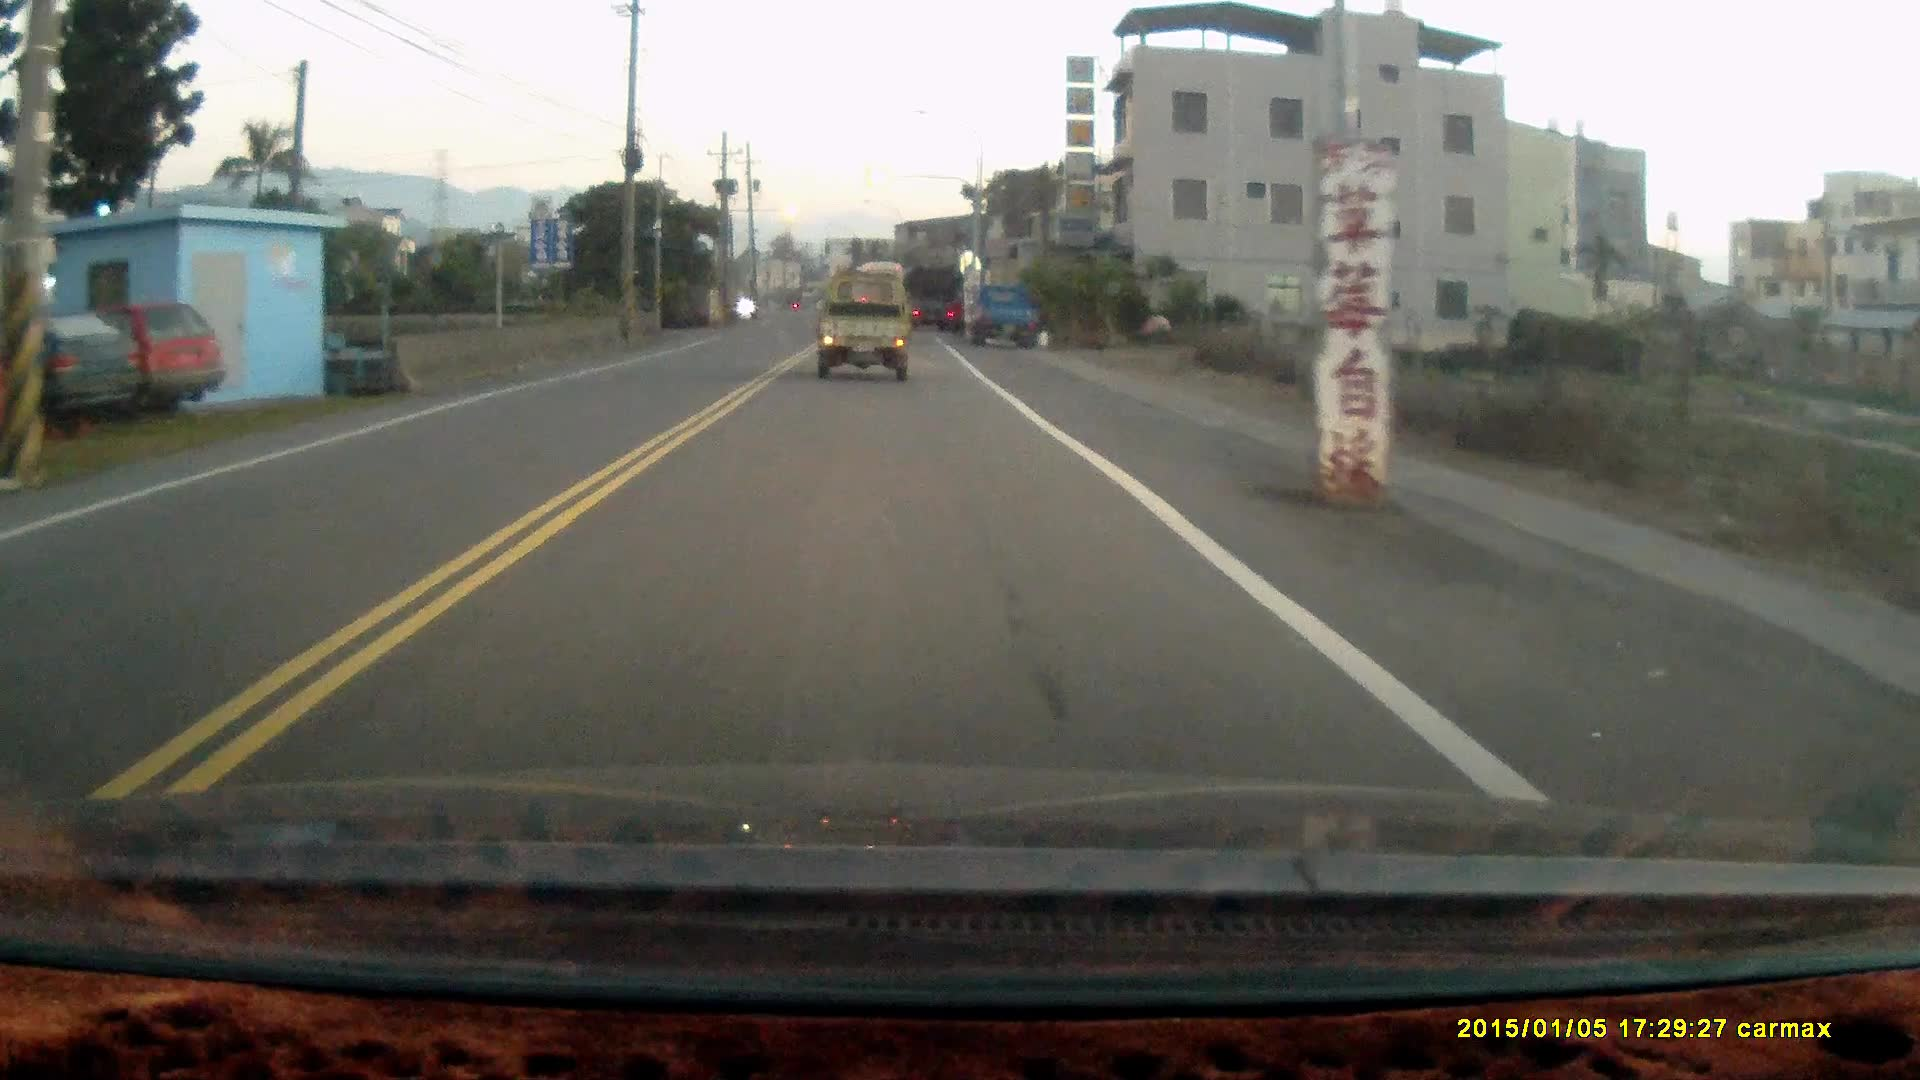vehicle: (18, 301, 224, 415), (3, 303, 153, 435), (815, 276, 916, 378), (965, 290, 1047, 353), (902, 266, 965, 332)
